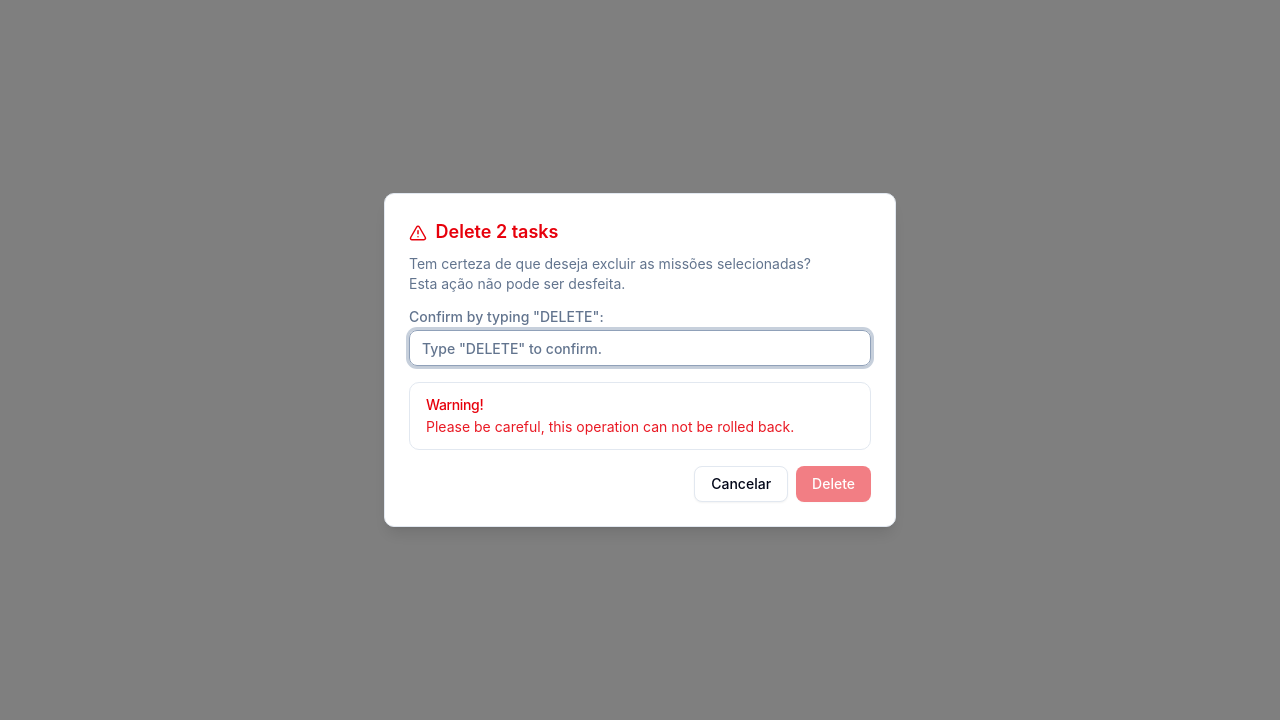
Test: TasksMultiDeleteDialog › keeps the delete button disabled until the confirm delete input is filled correctly
Expected: the button "Delete" is disabled, [796, 466, 871, 502]
Type "wrong-input" into the field labelled "Confirm by typing \"DELETE\":" at (640, 348), box [409, 330, 871, 366]
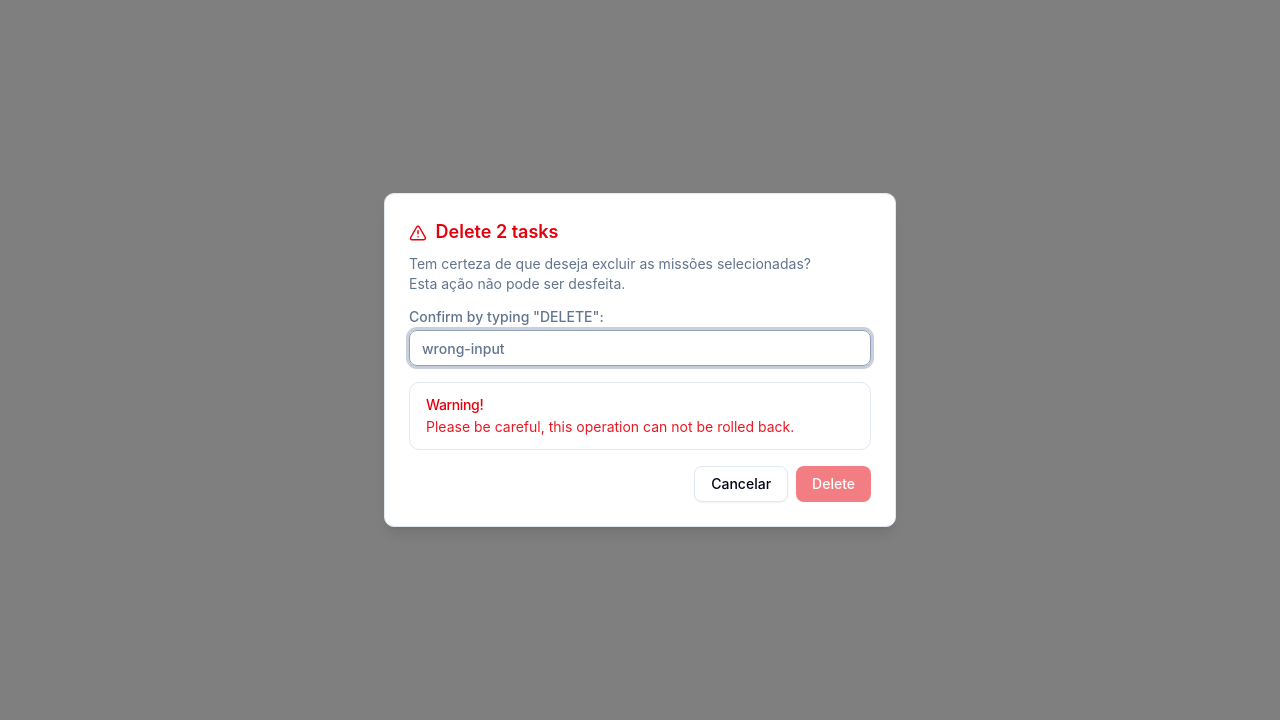
Expected: the button "Delete" is disabled, [796, 466, 871, 502]
Replace the text in the field labelled "Confirm by typing \"DELETE\":" with "DELETE" at (640, 348), box [409, 330, 871, 366]
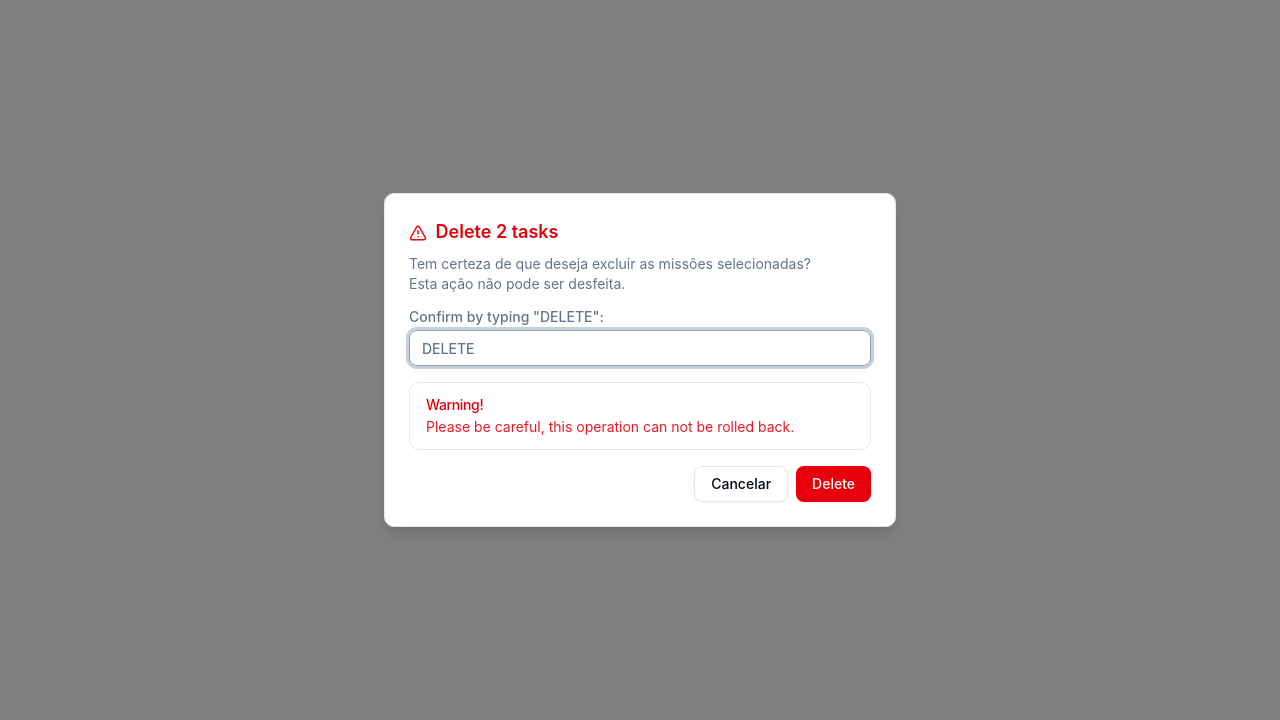
Expected: the button "Delete" is enabled, [796, 466, 871, 502]
